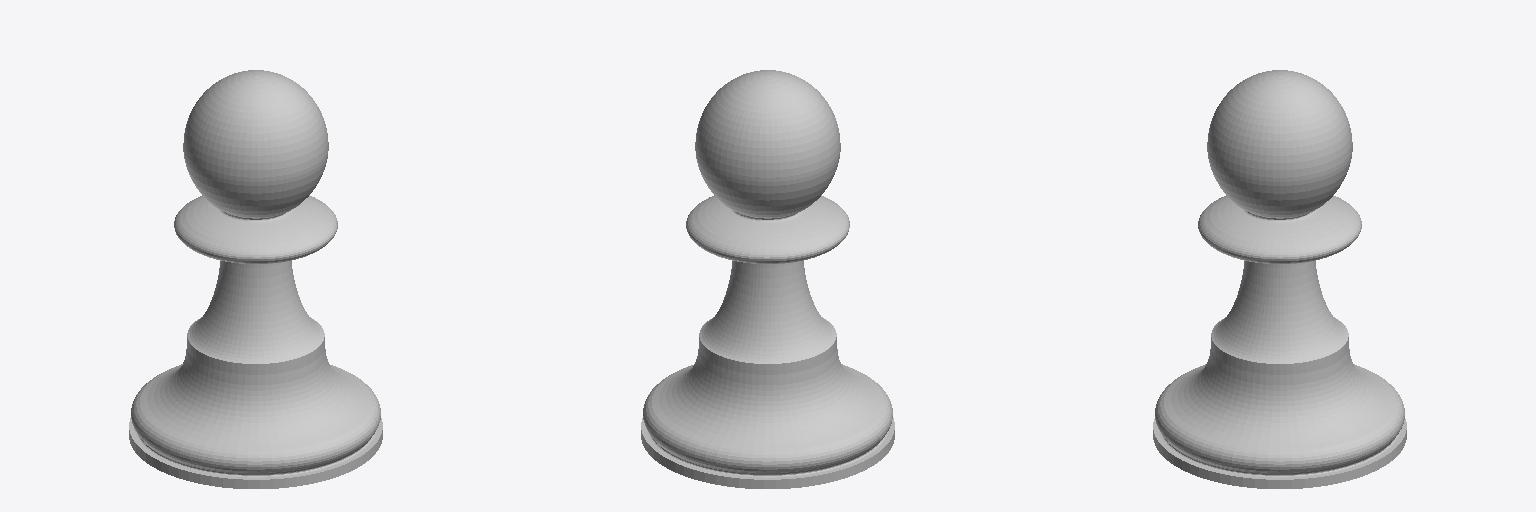
Rendered from pawn.obj.
The picture shows the model from 3 angles: view 1: azimuth 30°, elevation 25°; view 2: azimuth 150°, elevation 25°; view 3: azimuth 270°, elevation 25°; orthographic projection.
Parts seen in each view (by area): view 1: Scad_Chess_Pawn; view 2: Scad_Chess_Pawn; view 3: Scad_Chess_Pawn.
Boxes of the visible parts, x1=… form: Scad_Chess_Pawn: x1=129, y1=70, x2=382, y2=488; Scad_Chess_Pawn: x1=641, y1=70, x2=894, y2=488; Scad_Chess_Pawn: x1=1153, y1=70, x2=1406, y2=488.
Size of the model in its own units: 21.67 by 33.87 by 21.67.